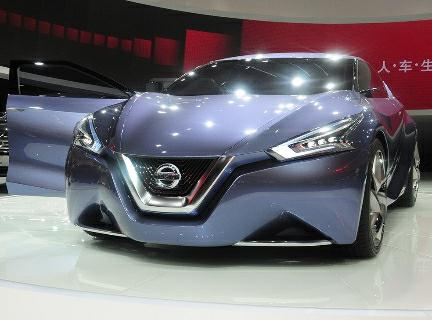日产-Friend-ME: (60, 50, 425, 265)
